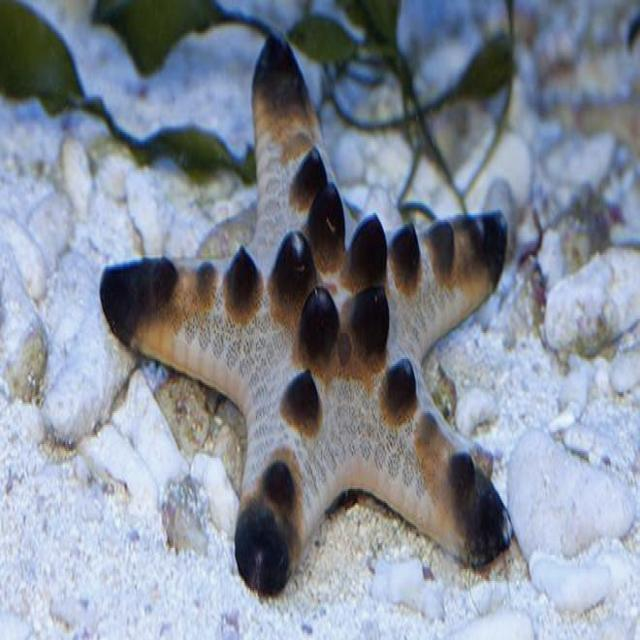starfish: (100, 40, 513, 593)
